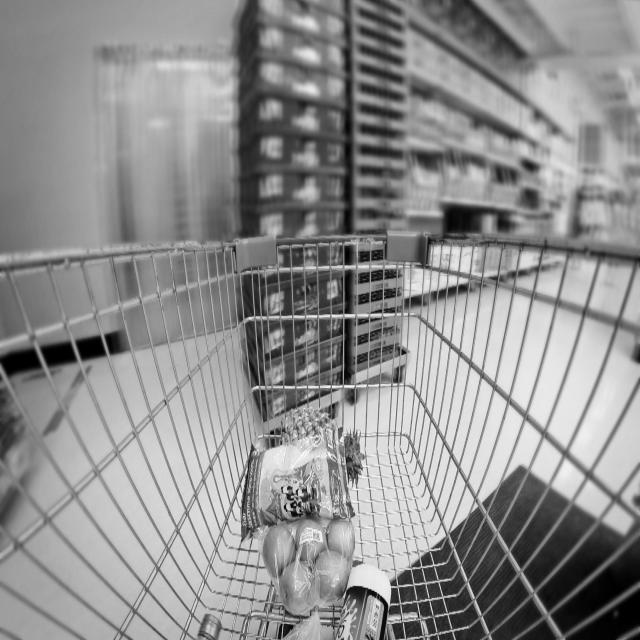dua: (268, 404, 364, 474)
sua: (336, 563, 399, 640)
tao: (261, 518, 360, 610)
